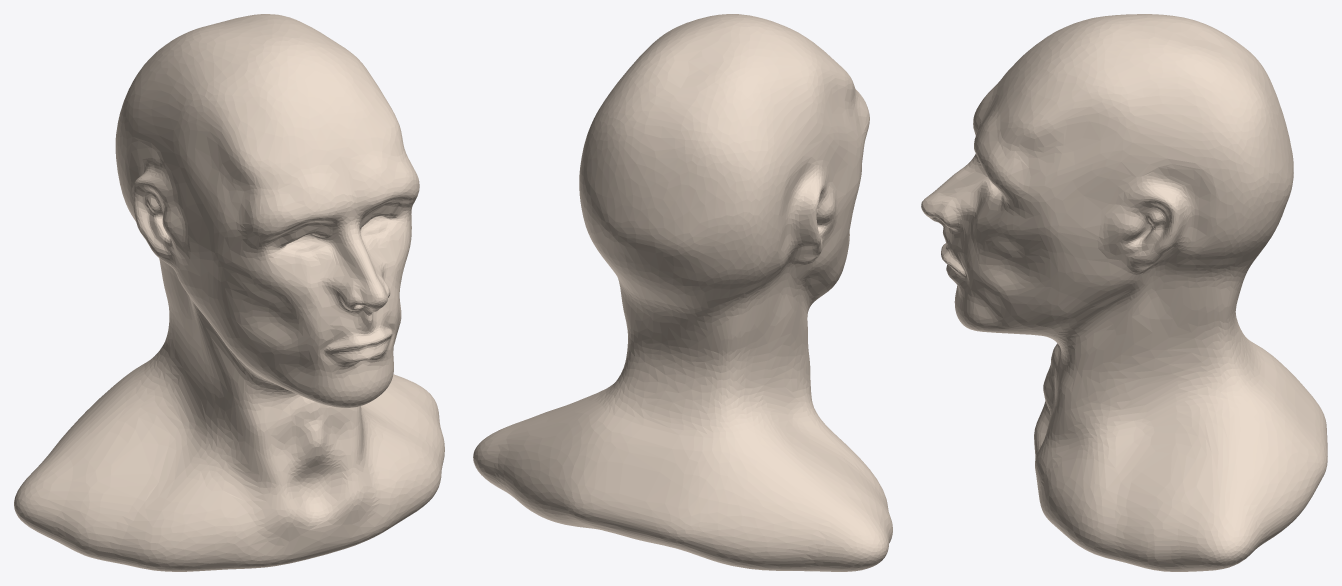
File: Head.fbx
3 renders of one model, left to right at view 1: azimuth 30°, elevation 25°; view 2: azimuth 150°, elevation 25°; view 3: azimuth 270°, elevation 25°, orthographic. The views are drawn at different scales.
Visible parts, largest first — view 1: Cube.002; view 2: Cube.002; view 3: Cube.002.
Part boxes in pixels (x1=…): Cube.002: x1=14, y1=14, x2=444, y2=571; Cube.002: x1=473, y1=14, x2=892, y2=571; Cube.002: x1=921, y1=14, x2=1327, y2=571.
Size of the model in its own units: 58.94 by 67.16 by 52.07.
